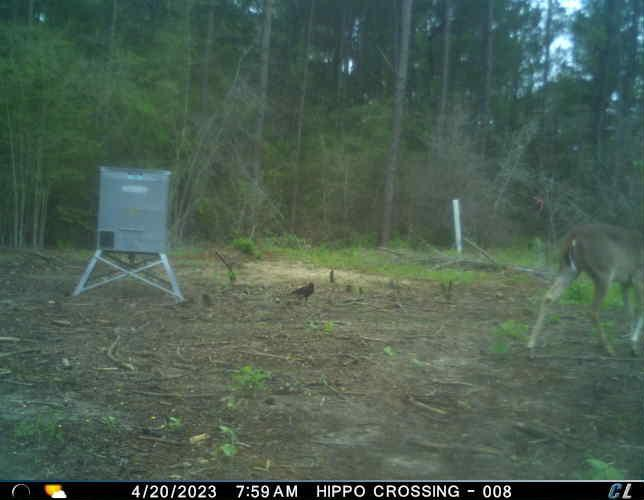Deer: (524, 220, 644, 363)
